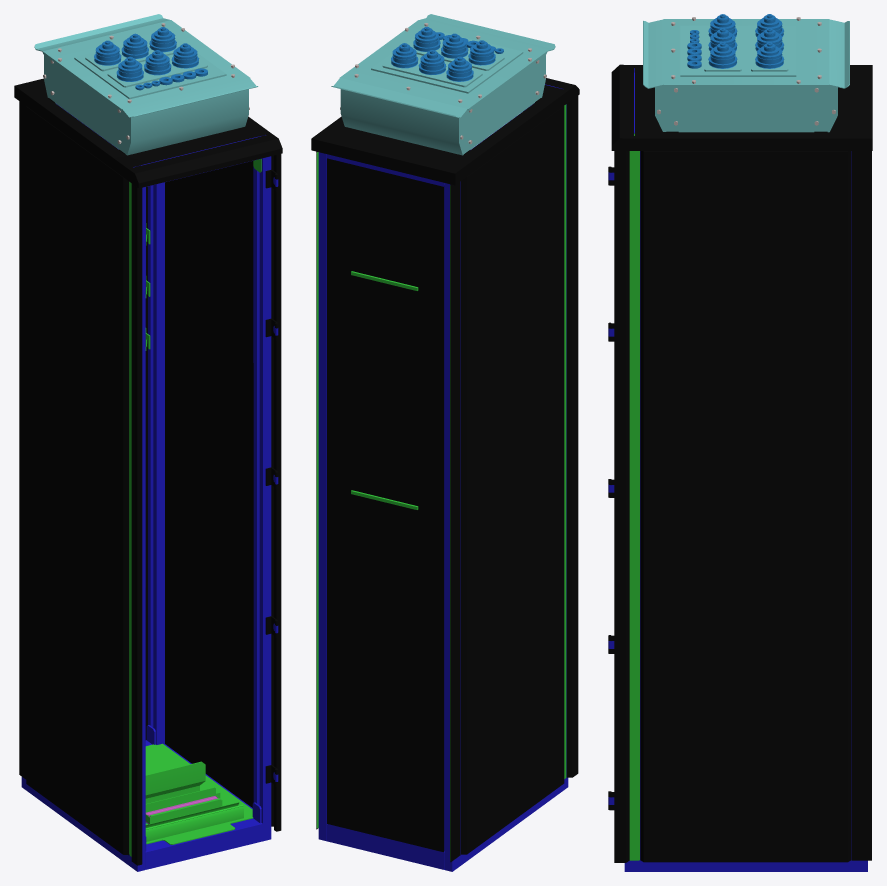
The model's file is case2.fbx.
3 views of the same model, side by side, from view 1: azimuth 30°, elevation 25°; view 2: azimuth 150°, elevation 25°; view 3: azimuth 270°, elevation 25° (orthographic). The views are drawn at different scales.
Parts seen in each view (by area): view 1: ACS880.001; view 2: ACS880.001; view 3: ACS880.001.
Boxes of the visible parts, x1=… form: ACS880.001: x1=14, y1=14, x2=282, y2=871; ACS880.001: x1=311, y1=14, x2=579, y2=871; ACS880.001: x1=608, y1=14, x2=872, y2=871.
Size of the model in its own units: 60.22 by 308 by 91.32.
